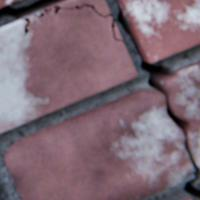brick: (0, 0, 136, 132), (117, 0, 199, 62), (113, 20, 121, 39), (0, 0, 18, 7), (178, 196, 191, 199)
broken_brick: (3, 88, 193, 199), (159, 60, 199, 167)
crack: (114, 0, 199, 198), (0, 0, 60, 17), (43, 4, 111, 16), (110, 18, 123, 43), (19, 17, 28, 35), (33, 11, 43, 17)
